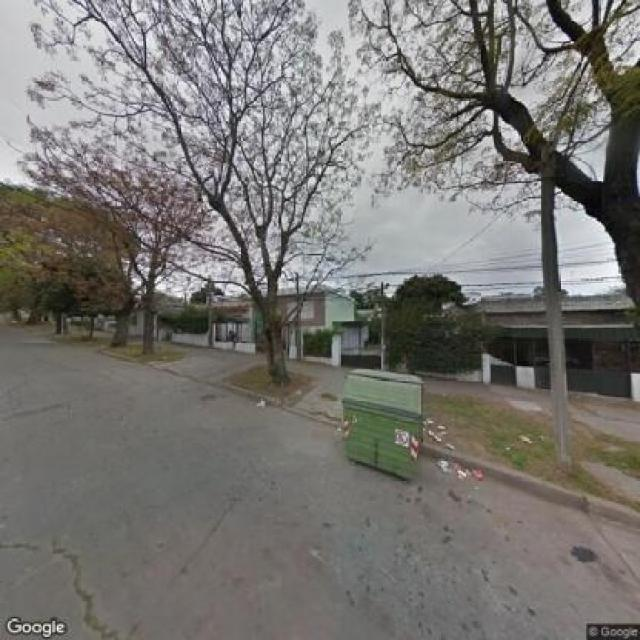garbage: (420, 411, 458, 456)
